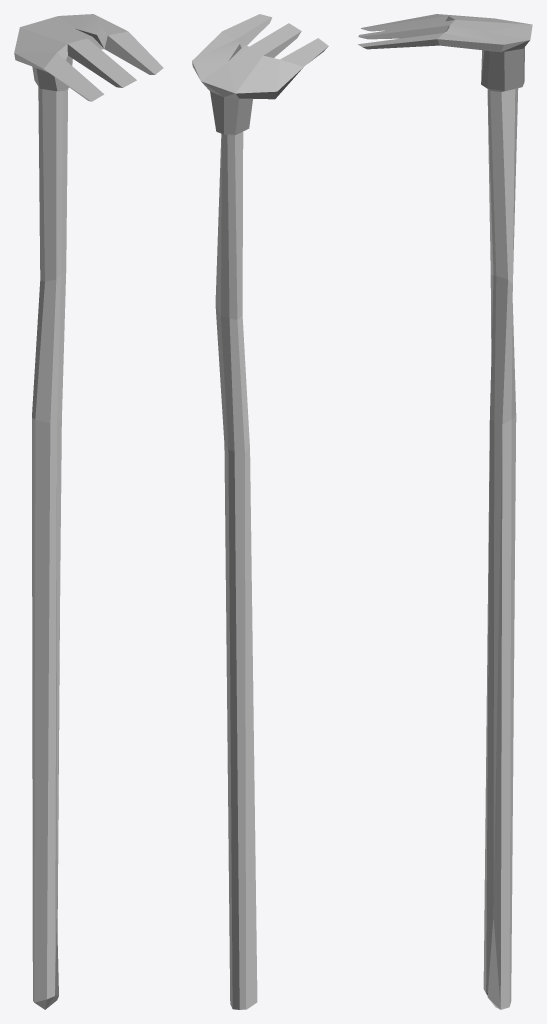
The model's file is PT_Hoe_03.fbx.
3 views of the same model, side by side, from view 1: azimuth 30°, elevation 25°; view 2: azimuth 150°, elevation 25°; view 3: azimuth 270°, elevation 25° (orthographic). The views are drawn at different scales.
Visible parts, largest first — view 1: PT_Hoe_03; view 2: PT_Hoe_03; view 3: PT_Hoe_03.
Part boxes in pixels (<box>): PT_Hoe_03: <box>14,14,163,1009</box>; PT_Hoe_03: <box>192,14,328,1009</box>; PT_Hoe_03: <box>358,14,532,1009</box>.
Size of the model in its own units: 14.01 by 154 by 24.6.
Materials: 1 (1 with a texture image).
